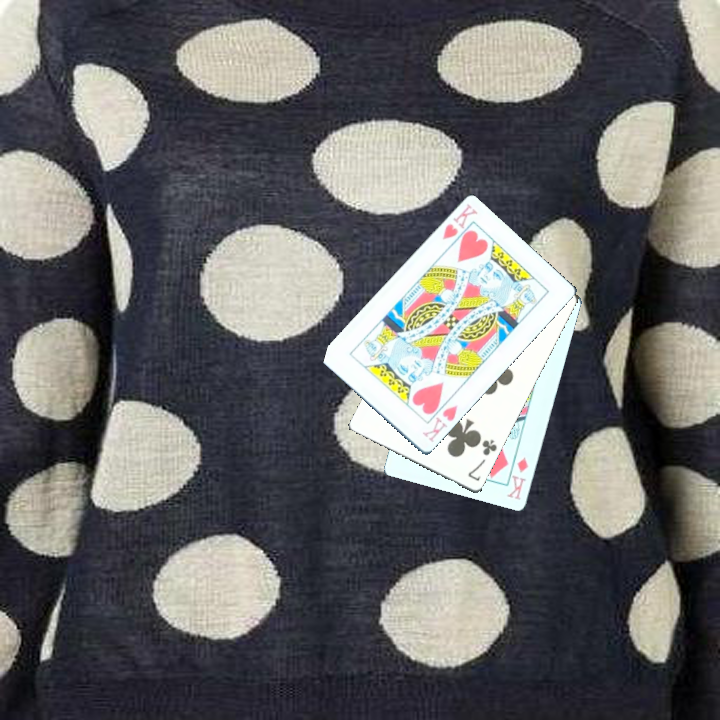7c: (464, 436, 500, 483)
Kd: (500, 446, 531, 502)
Kh: (438, 200, 481, 253), (418, 394, 460, 445)
